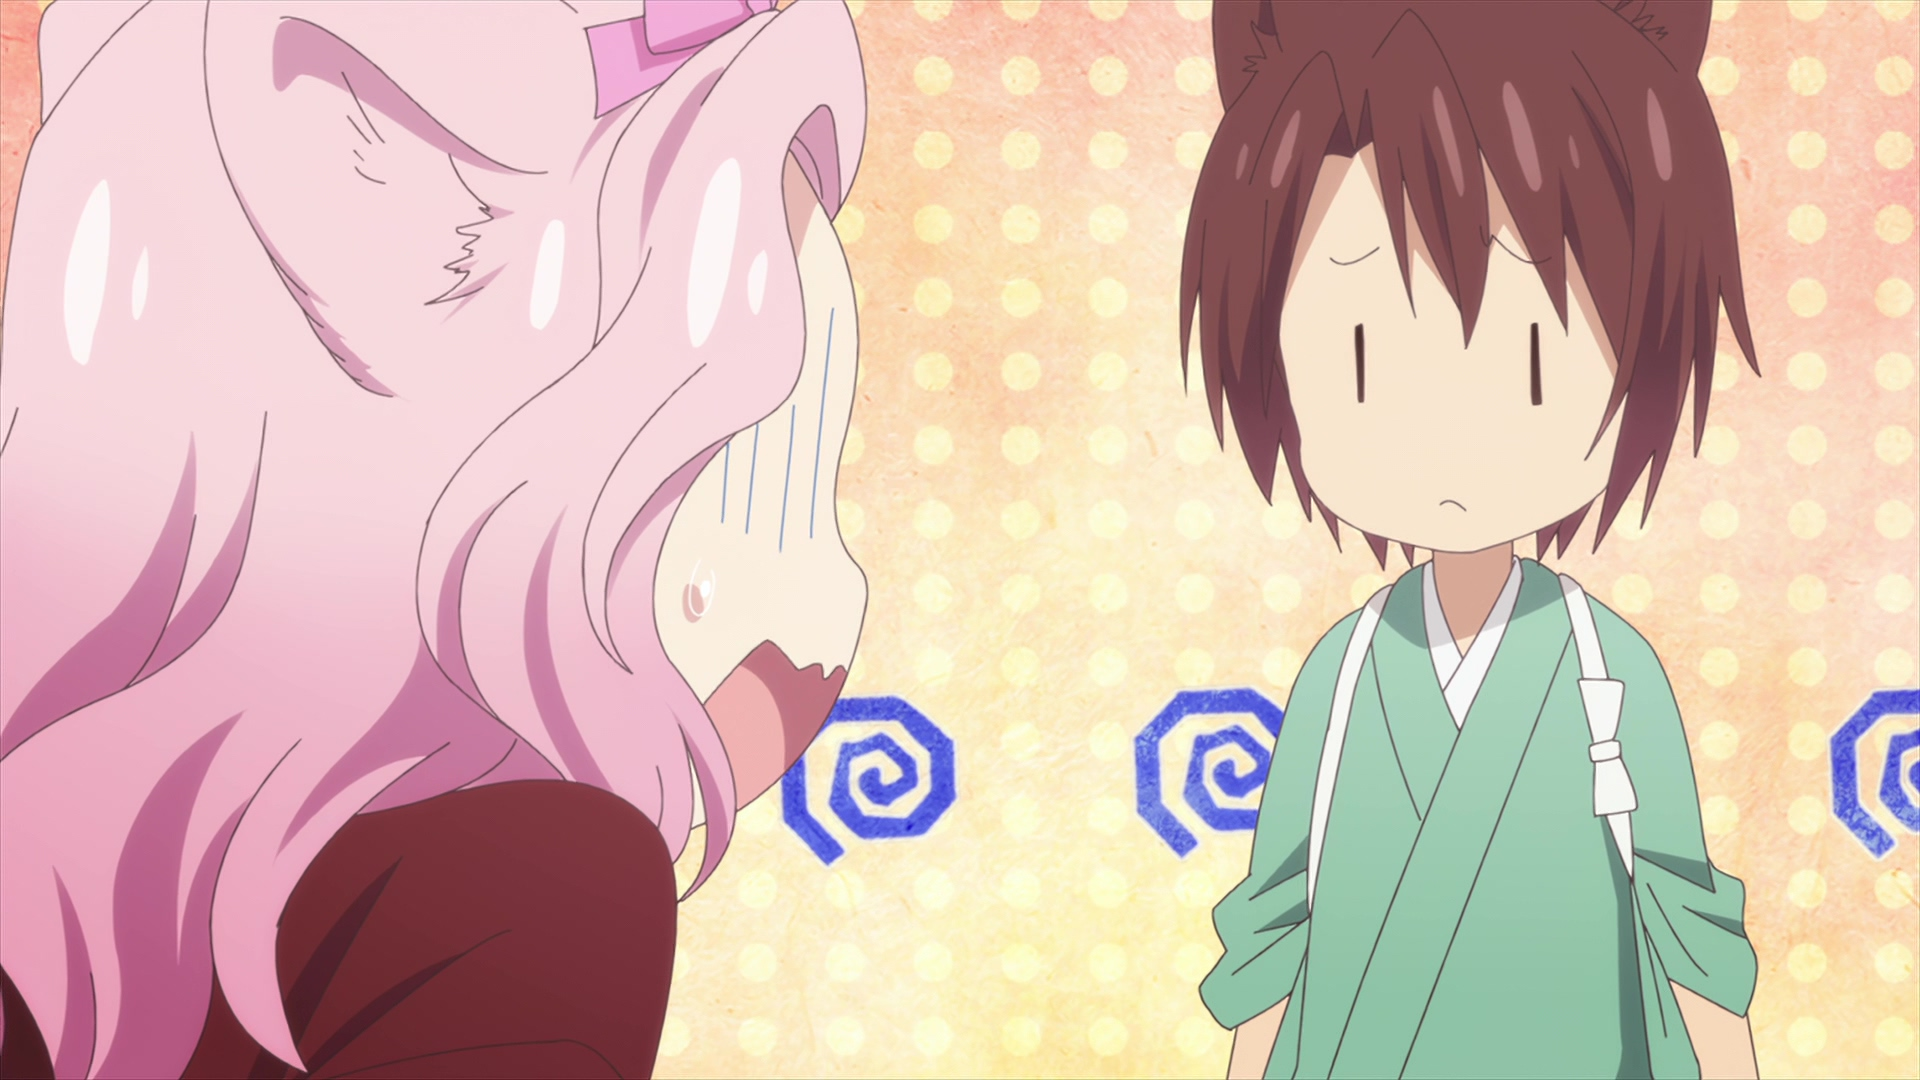枣: (1178, 1, 1762, 1080)
莲: (1, 1, 870, 1080)
